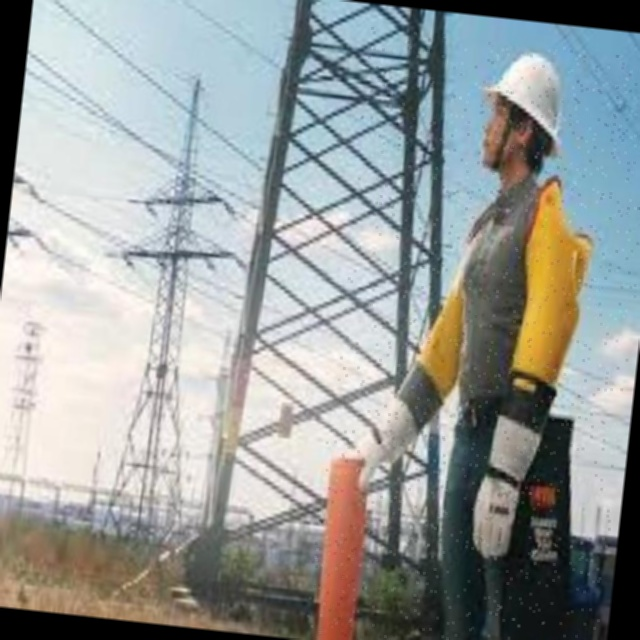gloves: (482, 349, 556, 541), (358, 347, 447, 493)
helmet: (462, 31, 546, 140)
